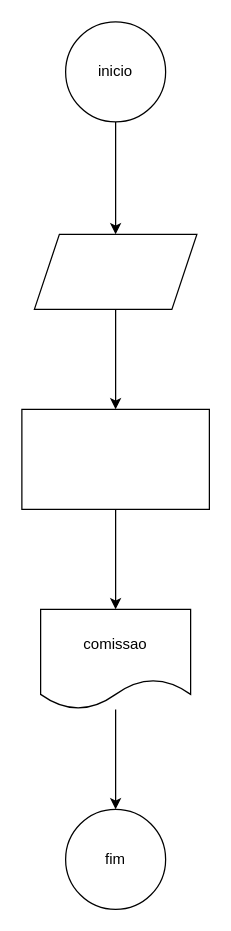
Image size: 231x931. Some labels were removed from this diagram. The shapes that lost their labels are listed below. From the top down, each one's box as (x1, y1, x2, y2) in pixels, then its label:
(33, 233, 197, 309): valorP,qtde
(21, 408, 209, 509): venda=valorP*qtde comissao=(venda*5)/100
